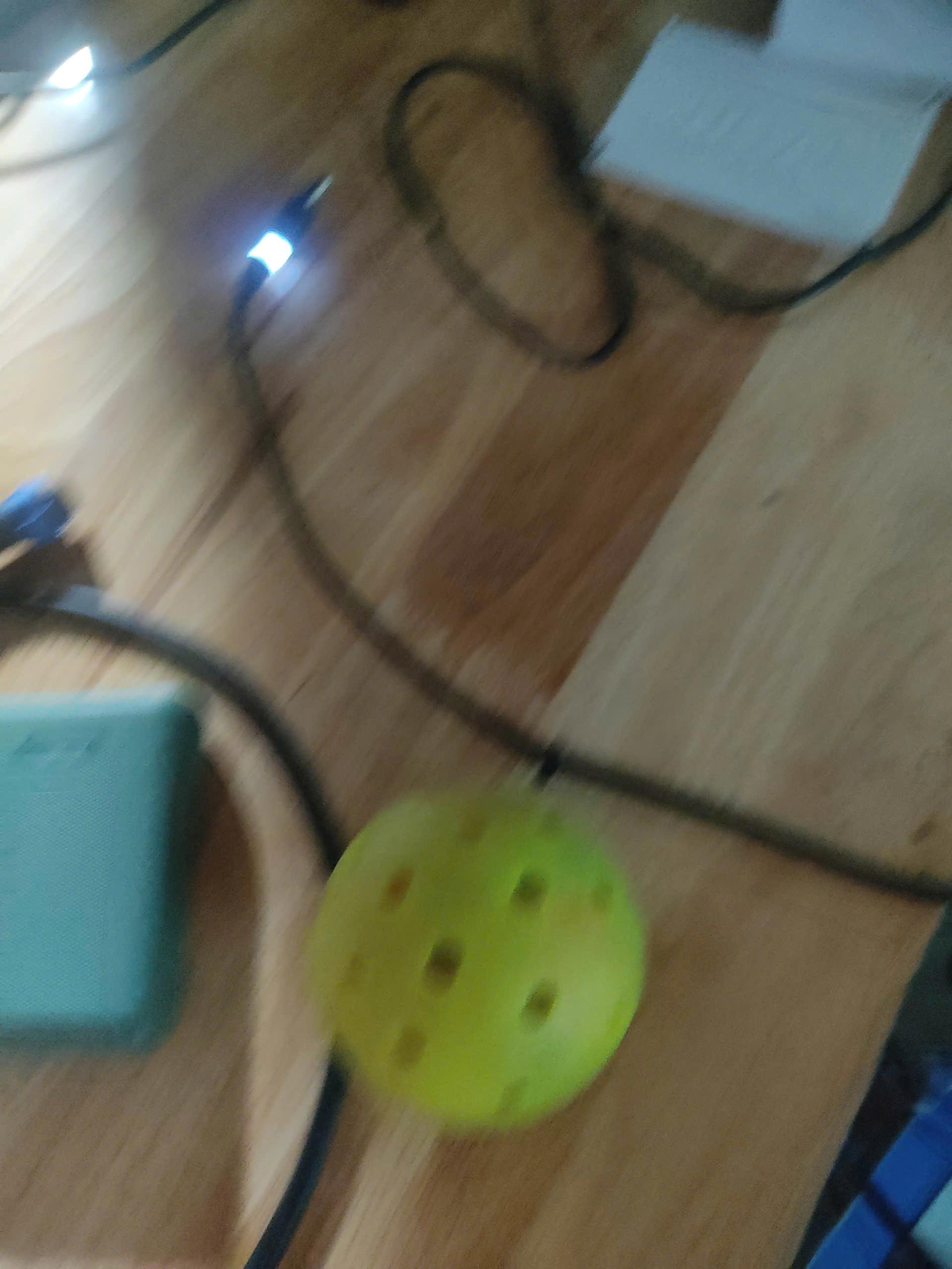ball: (290, 749, 654, 1142)
